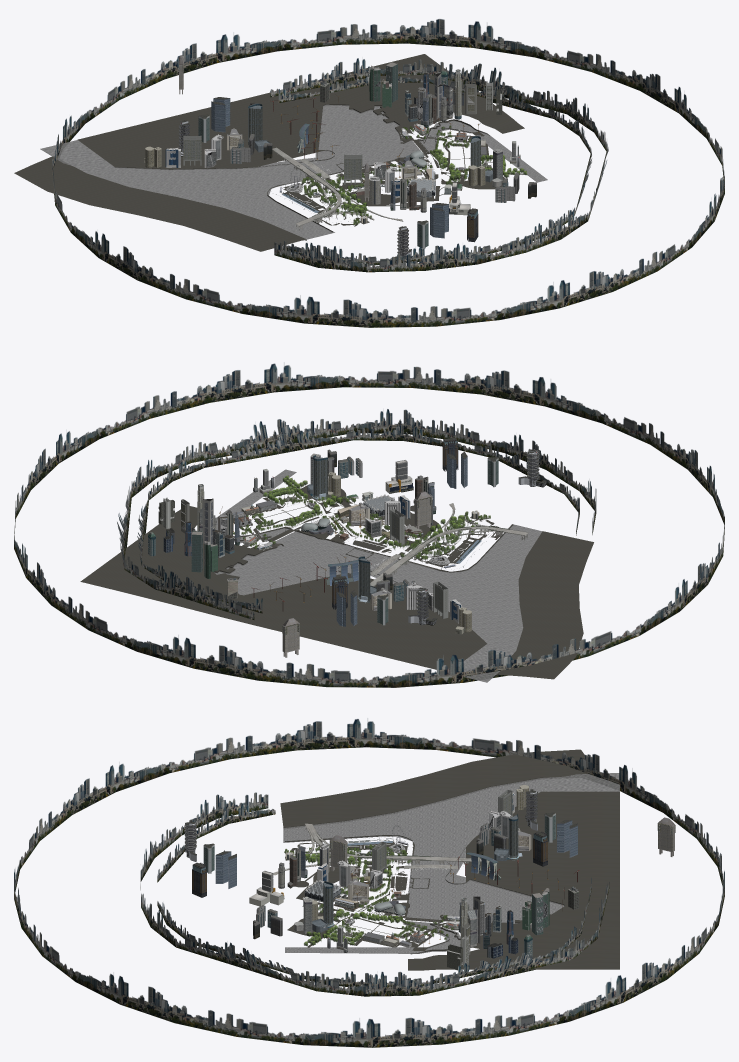
Rendered from korfez.glb.
3 views of the same model, one above another, from view 1: azimuth 30°, elevation 25°; view 2: azimuth 150°, elevation 25°; view 3: azimuth 270°, elevation 25° (orthographic). The views are drawn at different scales.
Visible parts, largest first — view 1: Untitled_0; view 2: Untitled_0; view 3: Untitled_0.
Part boxes in pixels (x1=…): Untitled_0: x1=14, y1=19, x2=724, y2=327; Untitled_0: x1=14, y1=362, x2=724, y2=687; Untitled_0: x1=14, y1=718, x2=724, y2=1047.
Size of what is drawn, in the model's own units: 4301 by 385 by 4301.
Materials: 66 (64 with a texture image).
